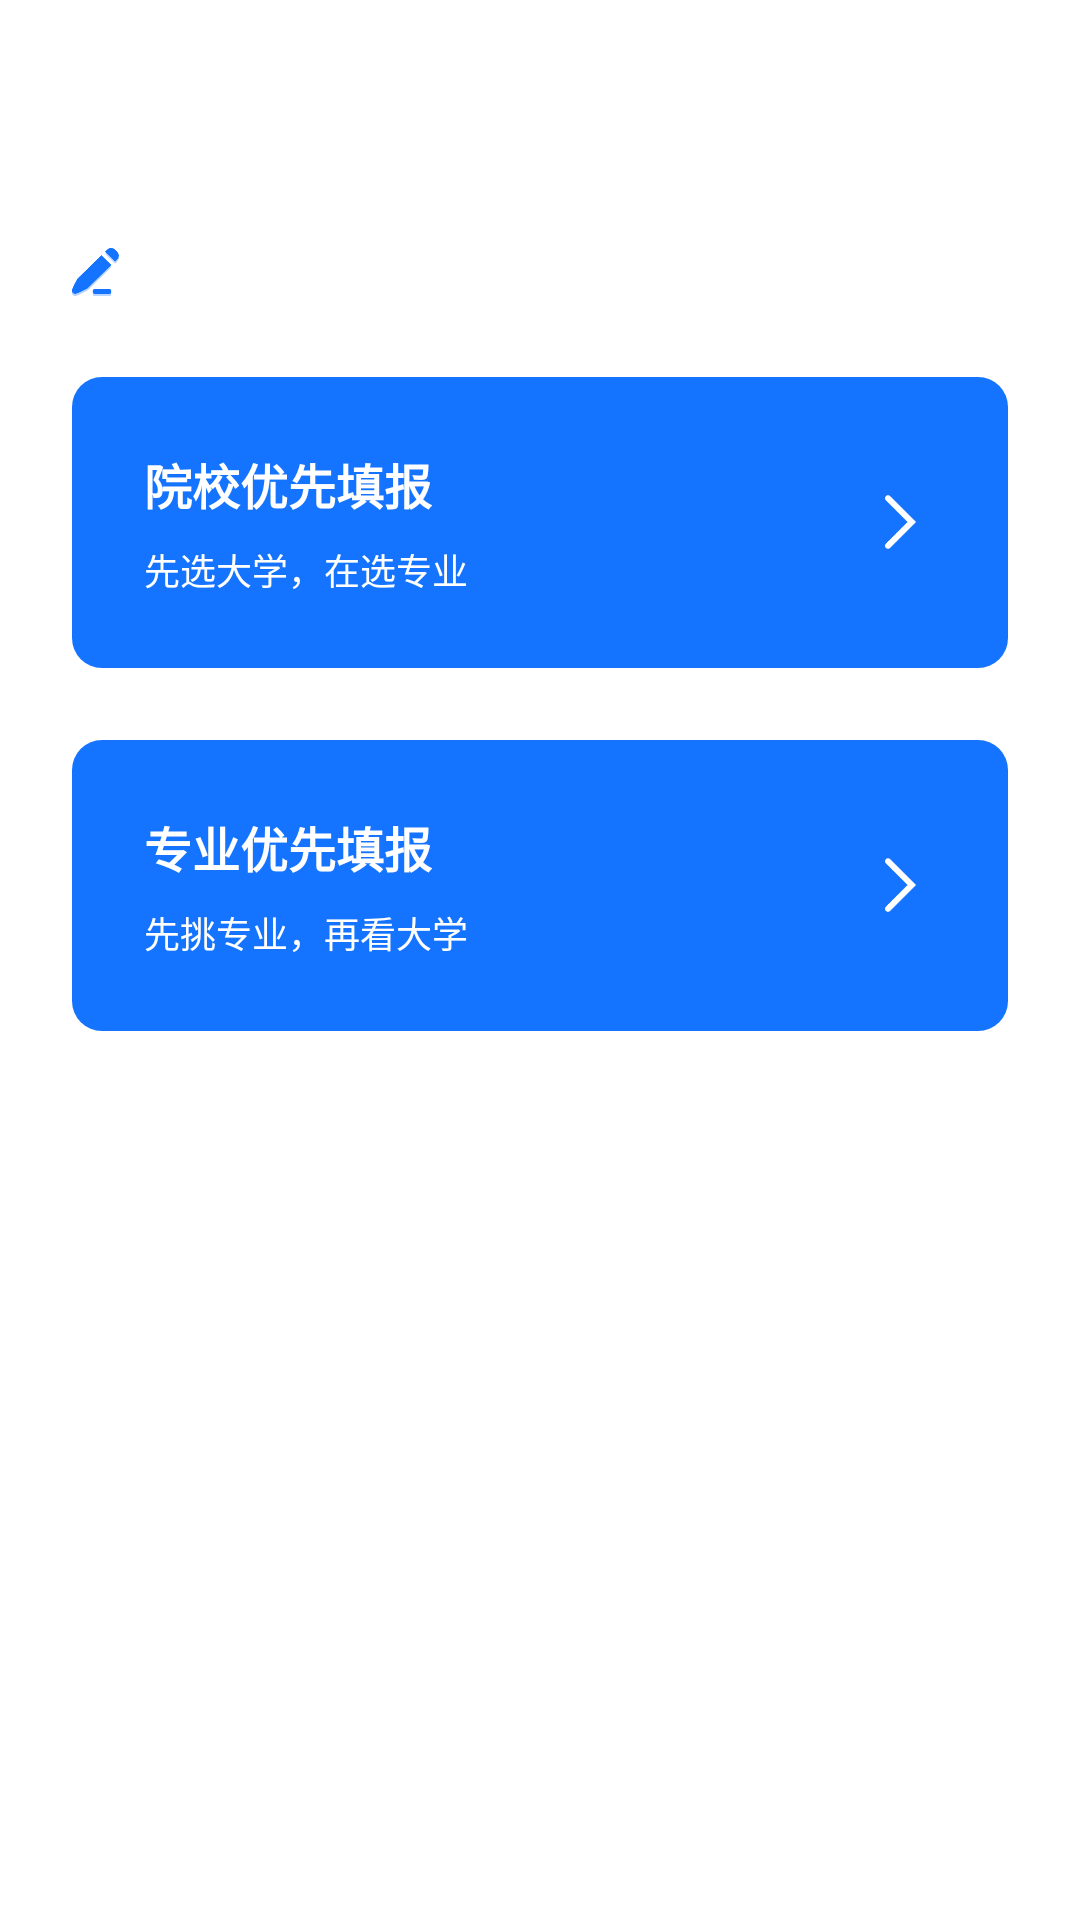

Icons on this 1080*1920 Android screen, each with its box as (x1, y1, x2, y2):
home edit: (72, 248, 119, 296)
